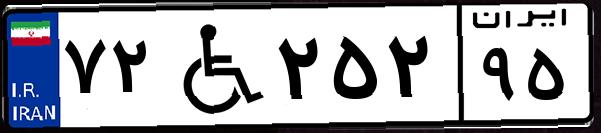2: (270, 28, 330, 110), (385, 28, 445, 110), (110, 28, 158, 98)
5: (330, 28, 385, 110), (525, 38, 570, 115)
7: (57, 26, 110, 100)
9: (475, 38, 525, 113)
ژ (معلولین و جانبازان): (158, 12, 270, 120)
